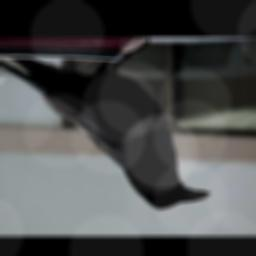Crow: (0, 40, 212, 211)
